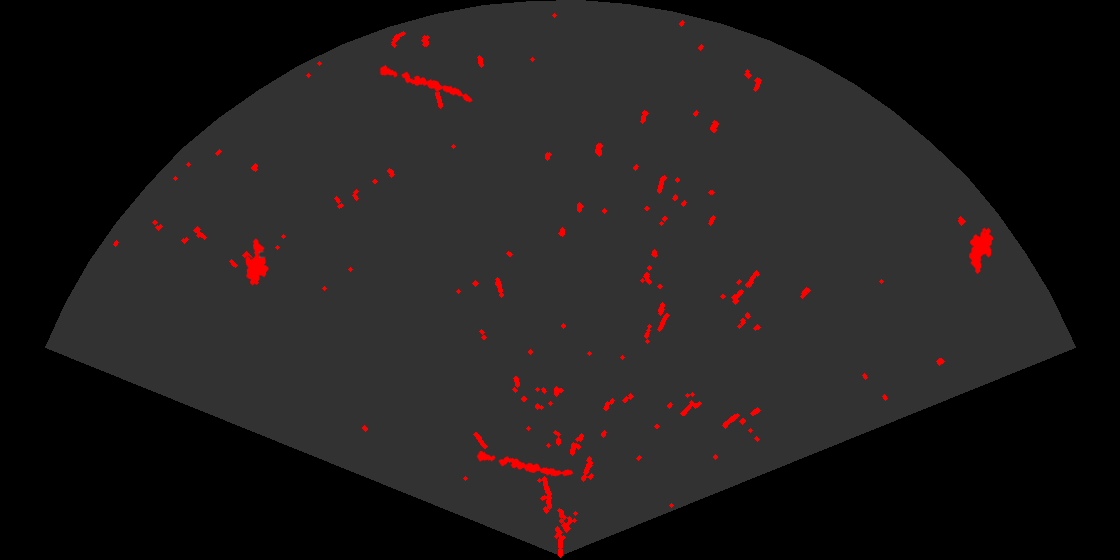AUV: (967, 226, 995, 276), (244, 237, 270, 287)
chain: (377, 63, 474, 104), (475, 449, 575, 478)
